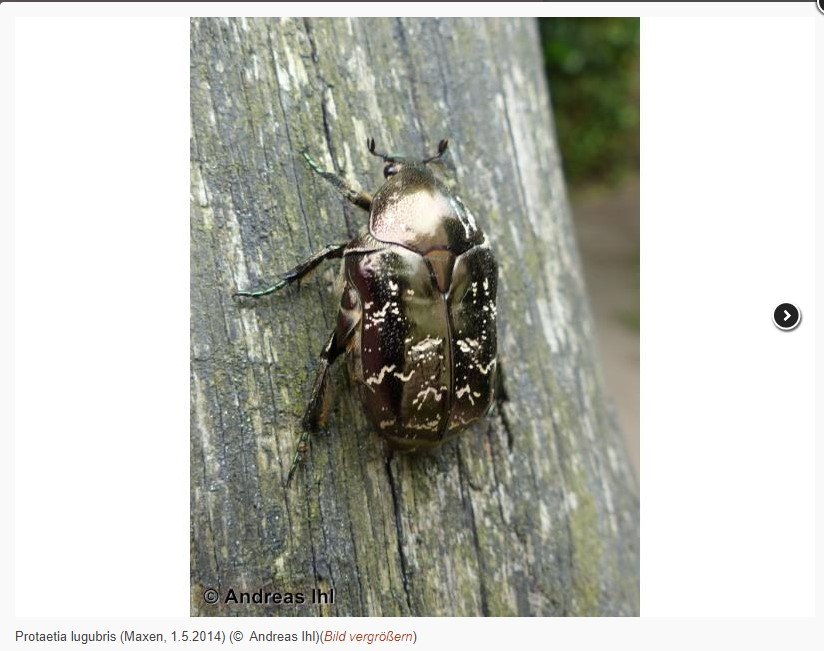Protaetia_lugubris: (229, 127, 522, 496)
